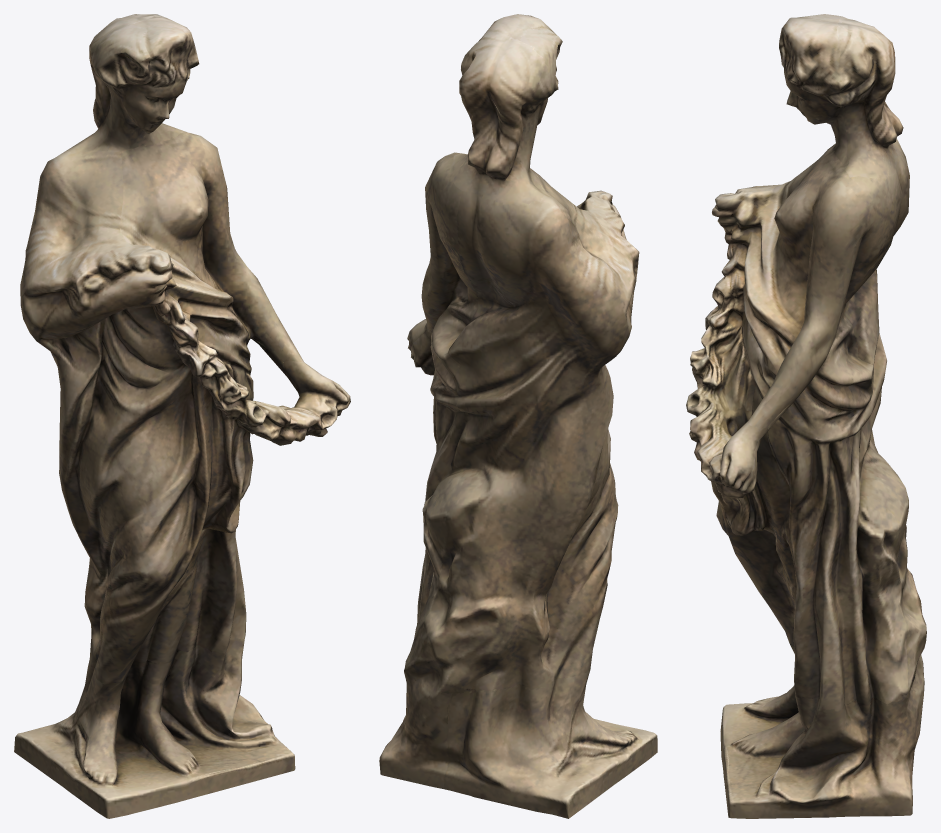
The model's file is Girl_statue_Head.fbx.
3 renders of one model, left to right at view 1: azimuth 30°, elevation 25°; view 2: azimuth 150°, elevation 25°; view 3: azimuth 270°, elevation 25°, orthographic.
Visible parts, largest first — view 1: Mesh_Statuette_02_LOD0, Mesh_Statuette_02_LOD0.001; view 2: Mesh_Statuette_02_LOD0, Mesh_Statuette_02_LOD0.001; view 3: Mesh_Statuette_02_LOD0, Mesh_Statuette_02_LOD0.001.
Part boxes in pixels (x1,y1,x2,y2): Mesh_Statuette_02_LOD0: (14,123,350,818); Mesh_Statuette_02_LOD0.001: (85,14,199,151); Mesh_Statuette_02_LOD0: (379,152,657,818); Mesh_Statuette_02_LOD0.001: (459,14,562,204); Mesh_Statuette_02_LOD0: (686,119,926,818); Mesh_Statuette_02_LOD0.001: (779,14,903,172).
Size of the model in its own units: 18.71 by 48.37 by 14.07.
